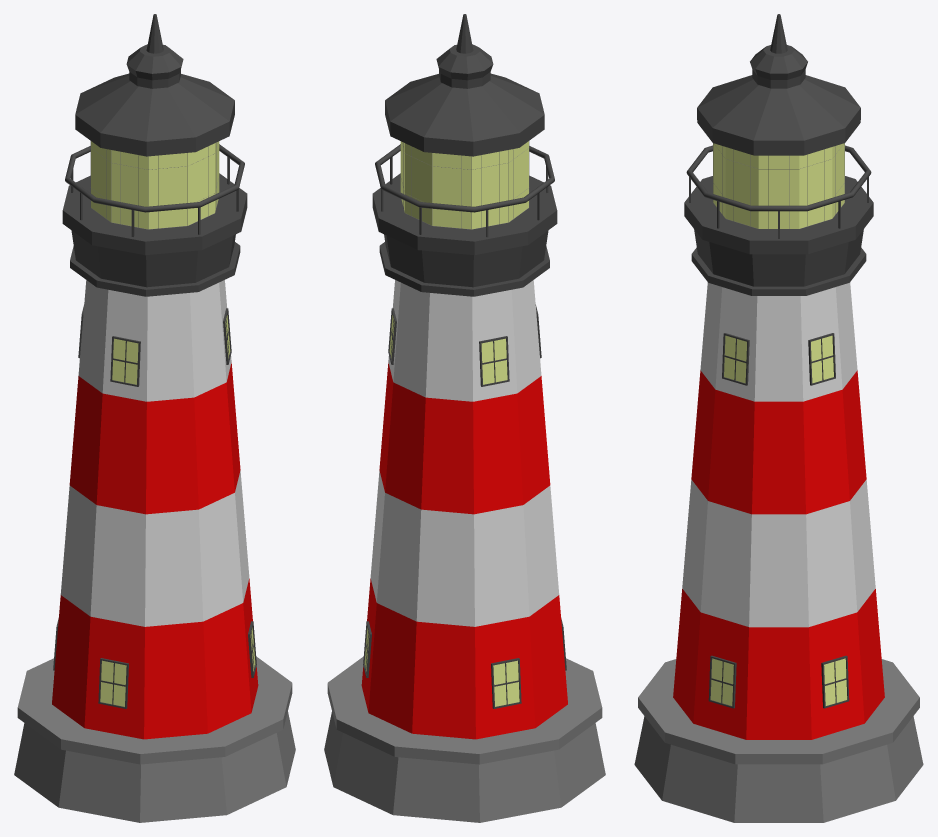
File: pin-landmark.glb
3 views of the same model, side by side, from view 1: azimuth 30°, elevation 25°; view 2: azimuth 150°, elevation 25°; view 3: azimuth 270°, elevation 25° (orthographic).
Visible parts, largest first — view 1: Circle; view 2: Circle; view 3: Circle.
Boxes of the visible parts, x1,y1,x2,y2 form: Circle: [14, 14, 295, 822]; Circle: [324, 14, 605, 822]; Circle: [634, 14, 923, 822].
Bounding box in the file's own units: 4.26 × 12.83 × 4.48.
Materials: 1 (1 with a texture image).
